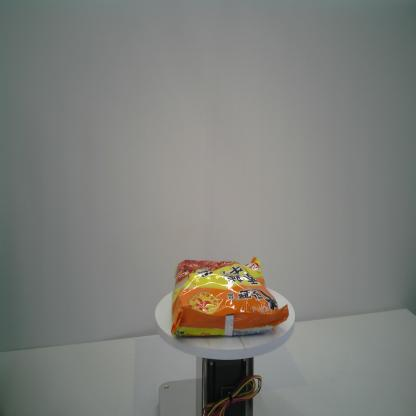Instant Noodles: (170, 255, 290, 340)
